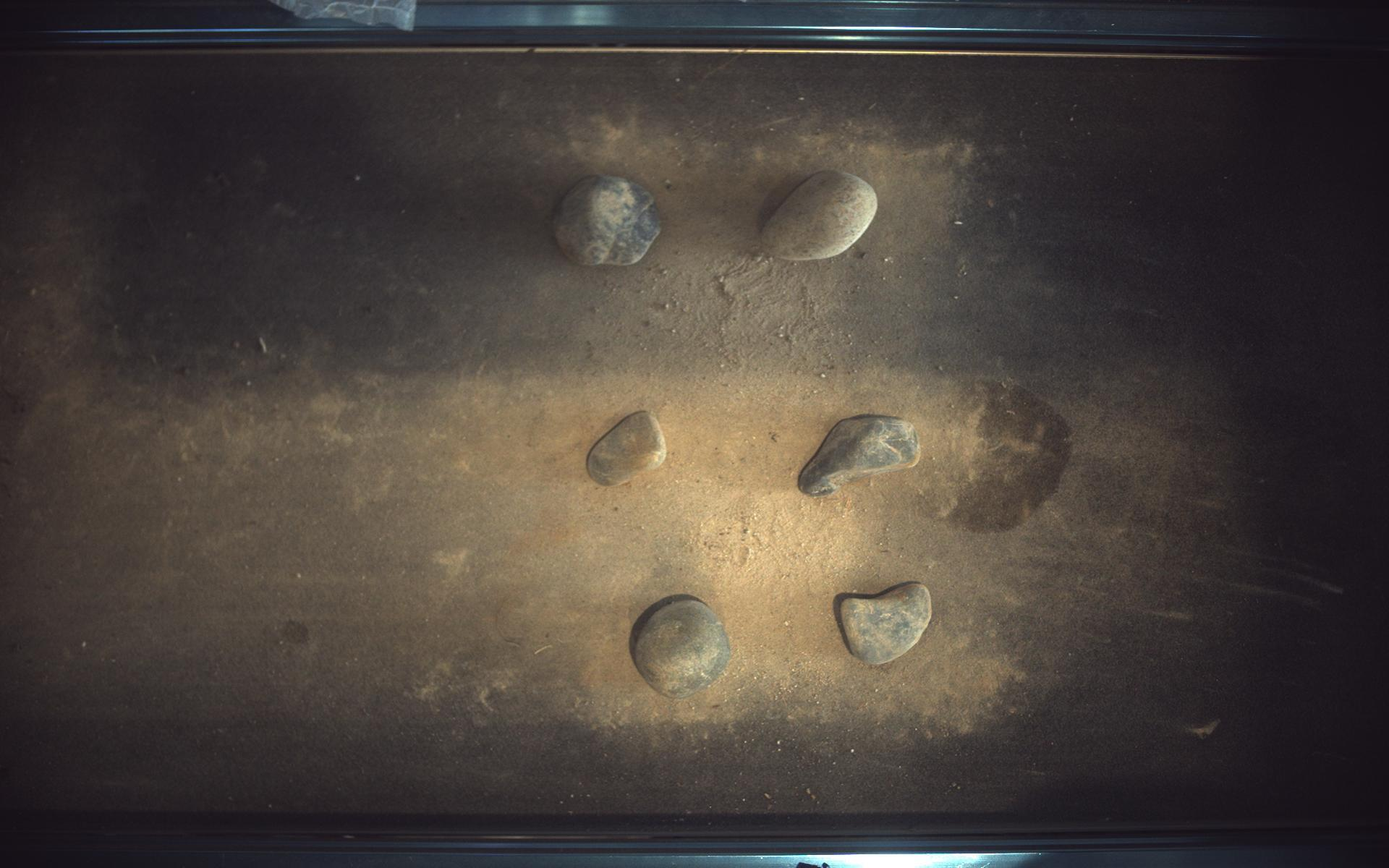stone: (763, 169, 879, 260), (630, 595, 731, 699), (800, 414, 922, 497), (553, 174, 661, 265), (842, 583, 933, 665), (587, 411, 668, 486)
